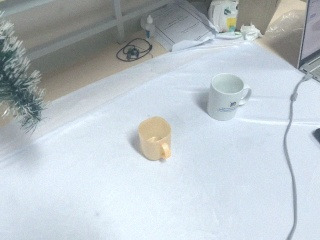box: (208, 1, 239, 33)
cup: (205, 72, 248, 122), (137, 116, 172, 162)
